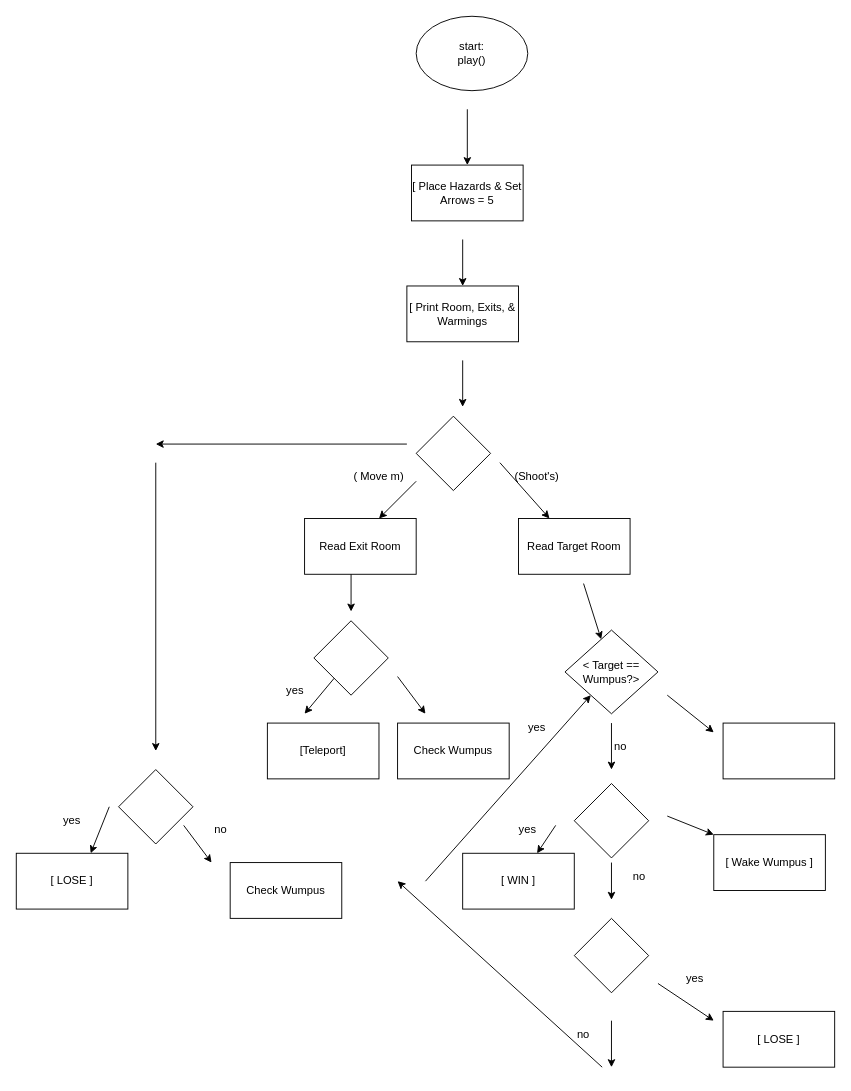
Some shapes in this 851 by 1091 pixel diagram are drawn without their labels. Here are the shapes that lost their labels. From the top down, the centre of each, then its label:
At (x=453, y=453): "Move or Shoot?".
At (x=350, y=657): "Entered Bats?".
At (x=778, y=750): "Arrows -= 1".
At (x=155, y=806): "Entered Pit?".
At (x=611, y=820): "< Arrows == 0?".
At (x=611, y=955): "< In Room?>".
